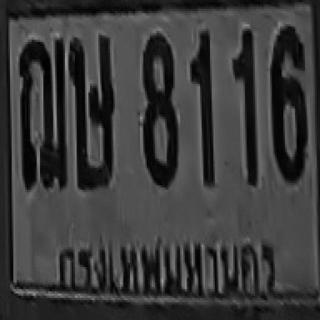A12: (18, 39, 68, 189), (18, 52, 67, 189)
A39: (69, 34, 114, 189)
N01: (189, 30, 212, 156), (233, 29, 256, 154)
N06: (270, 24, 305, 181)
N08: (142, 34, 178, 186)
P04: (49, 235, 285, 304)
